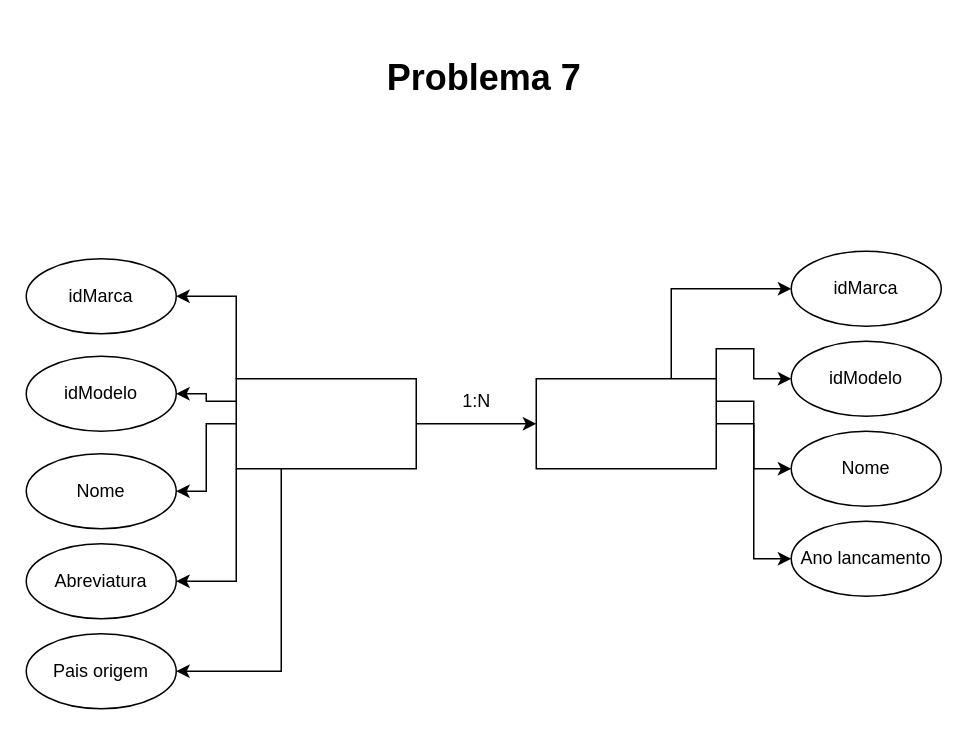
Some shapes in this 968 by 735 pixel diagram are drawn without their labels. The centre of each missing label's shape, as x and y in pixels:
Marca: point 325,423
Modelo: point 625,423
